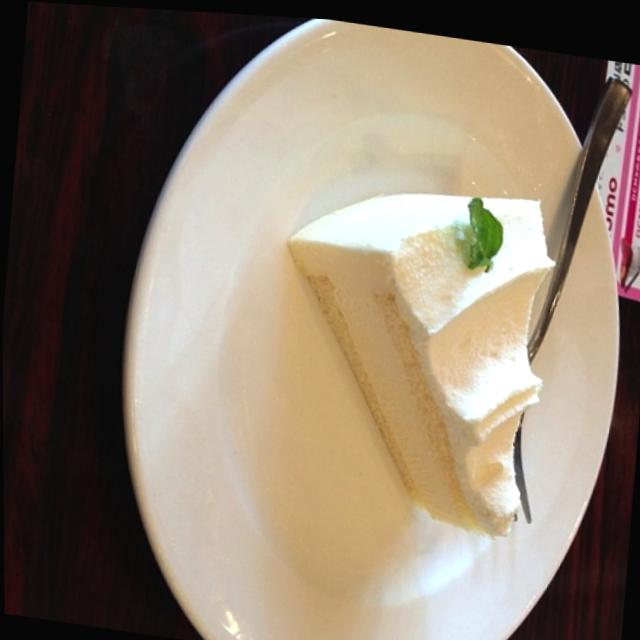蛋糕甜品: (160, 8, 639, 640)
